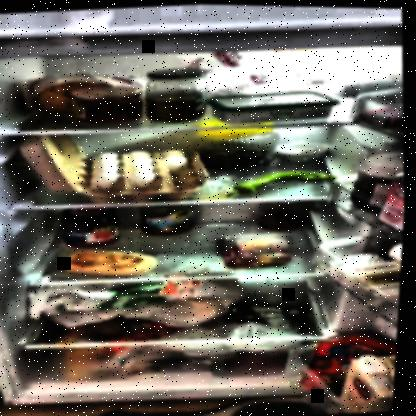cream_cheese: (209, 85, 338, 125)
eggs: (93, 147, 190, 190)
green_chillies: (228, 166, 337, 197)
milk: (352, 350, 399, 412)
olives: (203, 141, 275, 168)
tomato_paste: (73, 83, 147, 126)
